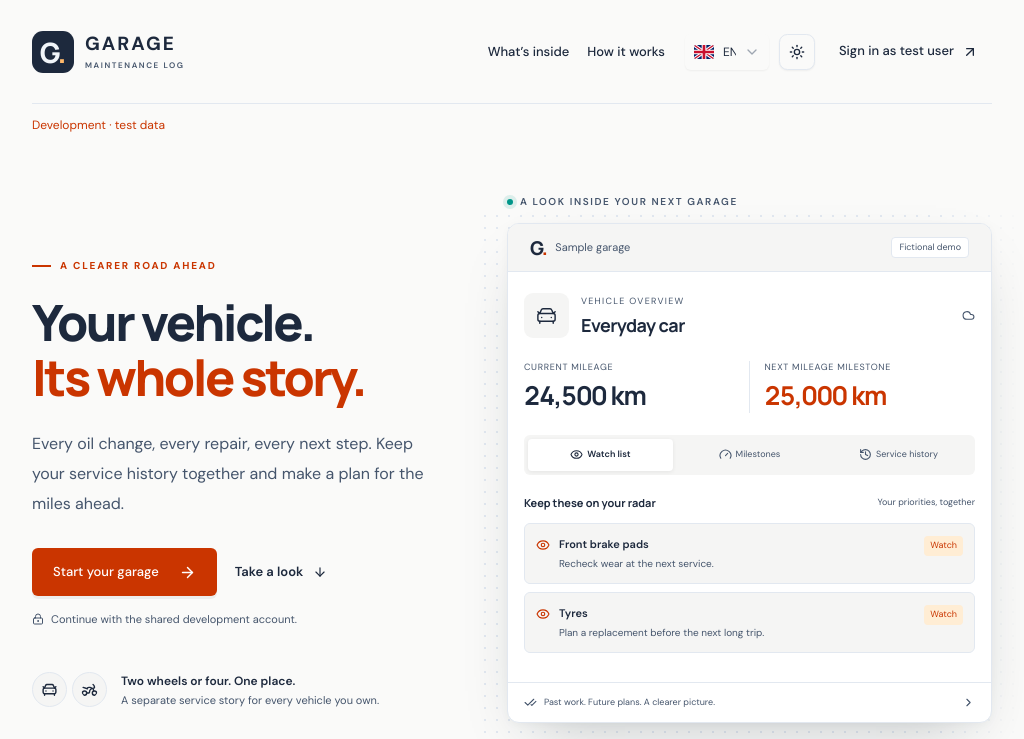
Test: language switching › switches the application, document metadata and remembered choice immediately
Expected: the heading "Your vehicle. Its whole story." is shown, top-left (32, 288), bottom-right (365, 411)
Expected: the text "Development · test data" is shown, top-left (32, 117), bottom-right (165, 133)
Click the dropdown named "Language": [727, 52] box top-left (685, 34), bottom-right (769, 70)
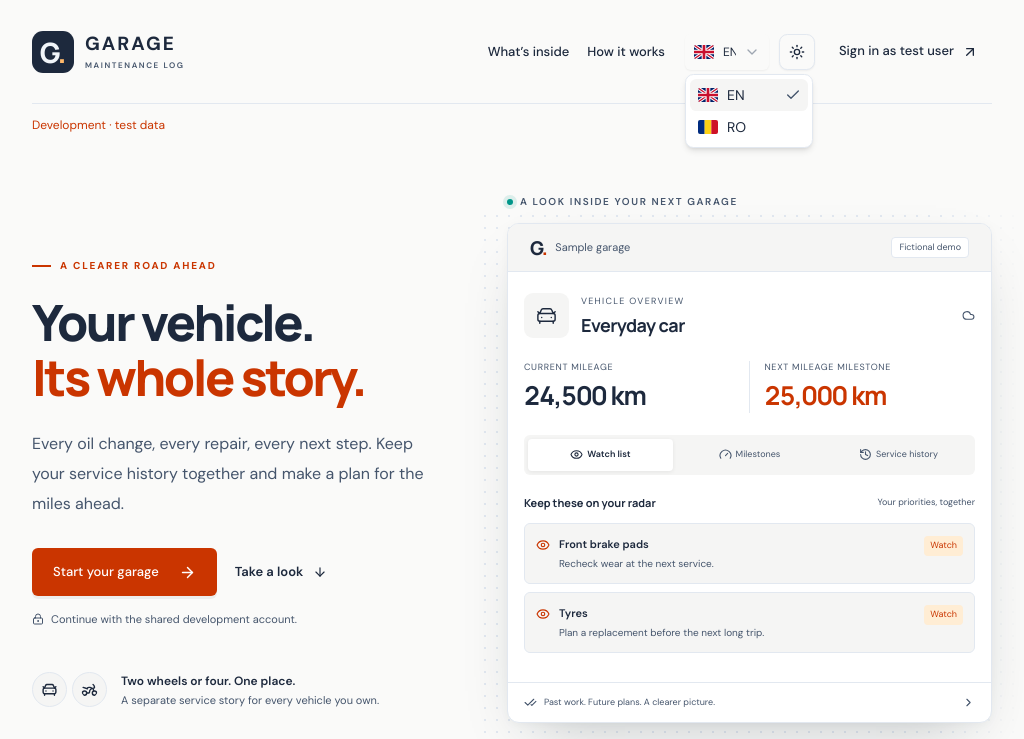
Click the option named "Română": [723, 132] box top-left (697, 118), bottom-right (749, 146)
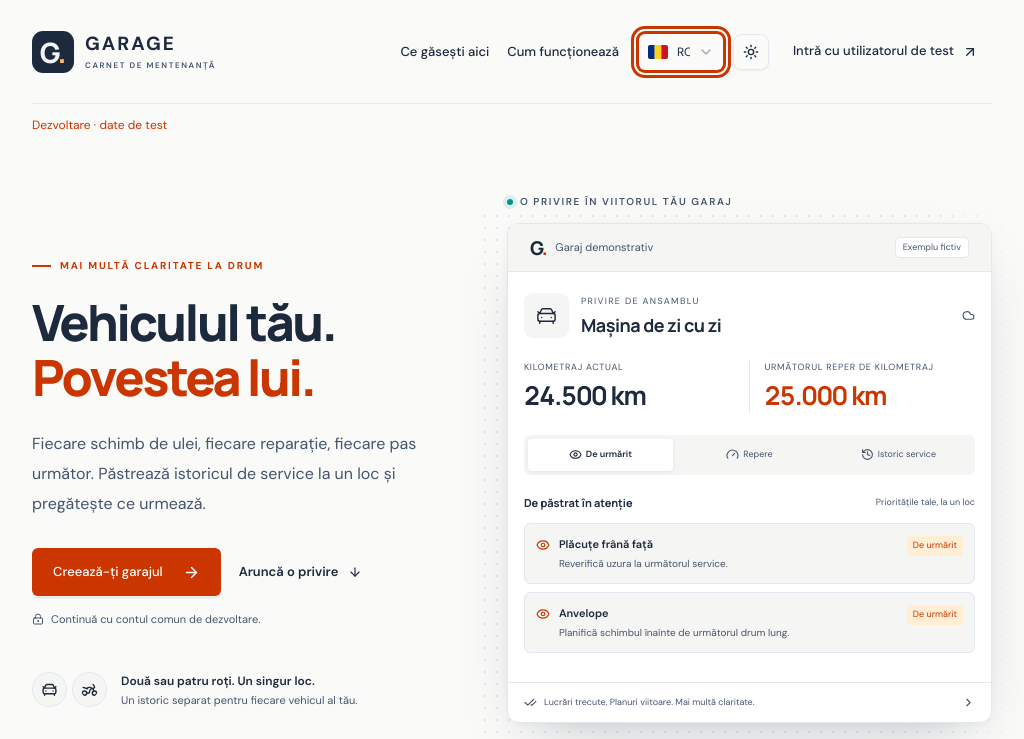
Expected: the heading "Vehiculul tău. Povestea lui." is shown, top-left (32, 288), bottom-right (335, 411)
Expected: the text "Dezvoltare · date de test" is shown, top-left (32, 117), bottom-right (167, 133)
Click the dropdown named "Limbă": [681, 52] box top-left (639, 34), bottom-right (723, 70)
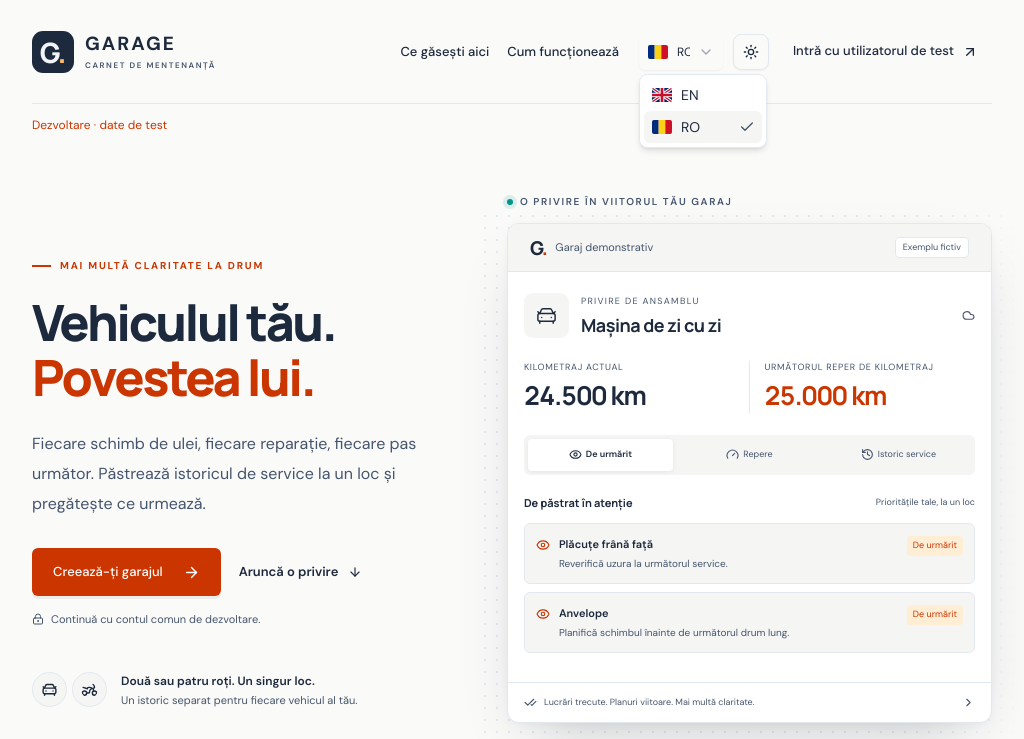
Click the option named "English": [675, 100] box top-left (651, 86), bottom-right (699, 114)
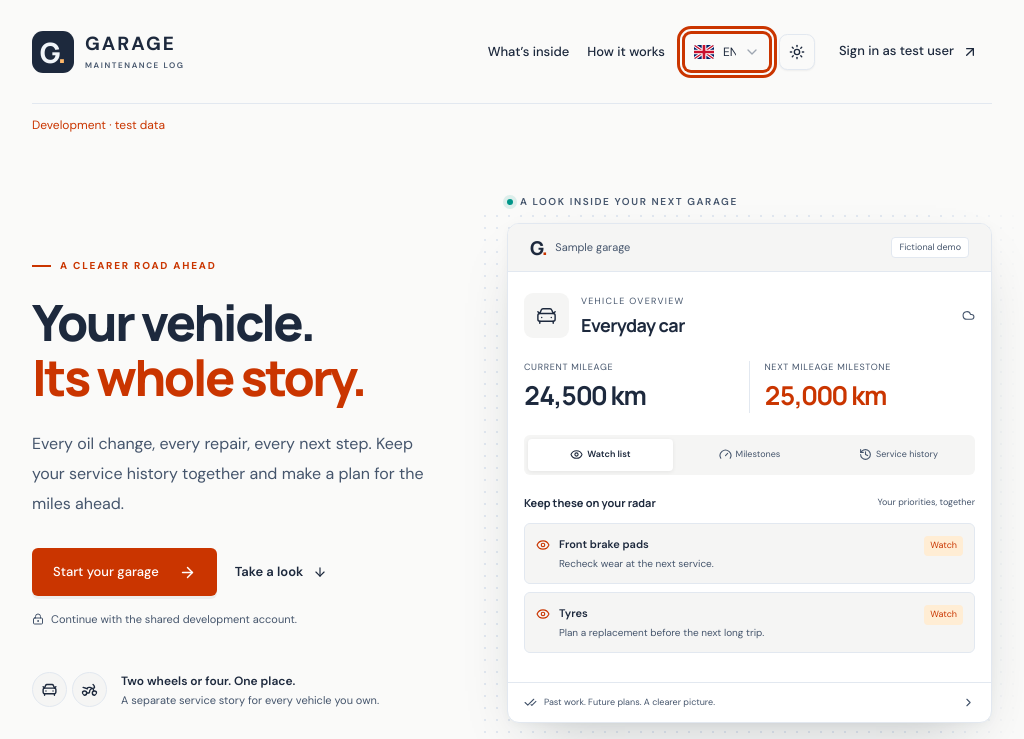
Expected: the heading "Your vehicle. Its whole story." is shown, top-left (32, 288), bottom-right (365, 411)
